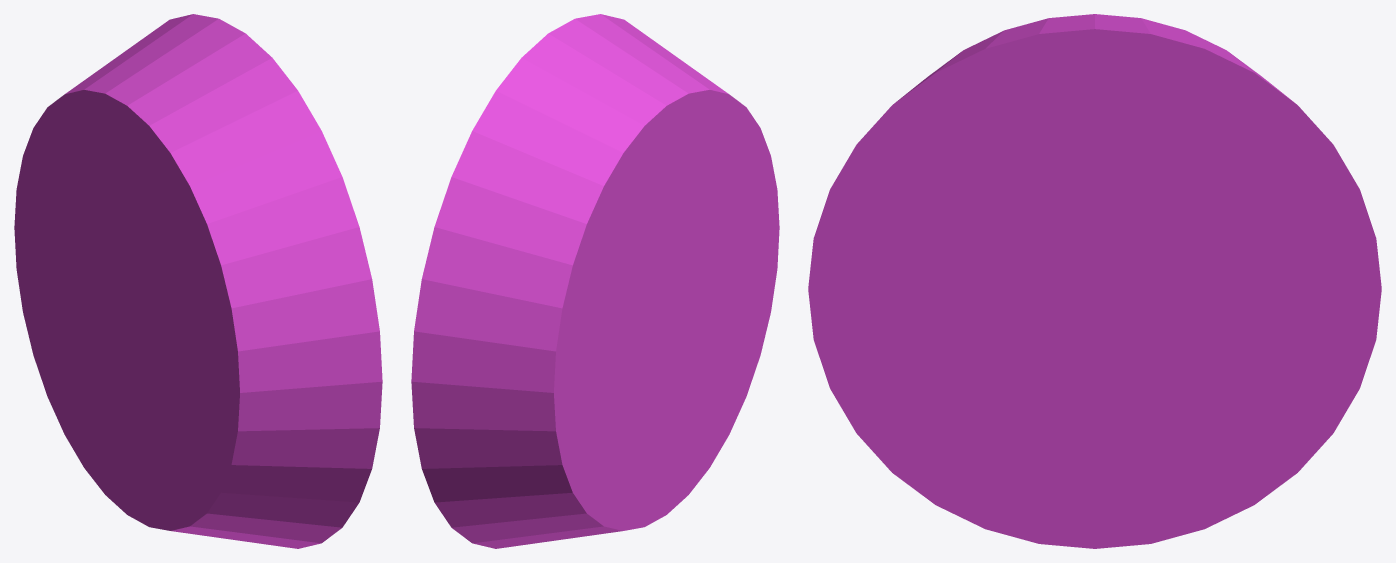
File: pink_button.glb
3 views of the same model, side by side, from view 1: azimuth 30°, elevation 25°; view 2: azimuth 150°, elevation 25°; view 3: azimuth 270°, elevation 25° (orthographic). The views are drawn at different scales.
Visible parts, largest first — view 1: Cylinder.005; view 2: Cylinder.005; view 3: Cylinder.005.
Part boxes in pixels (left/top/right/bottom): Cylinder.005: left=14, top=14, right=382, bottom=548; Cylinder.005: left=411, top=14, right=779, bottom=548; Cylinder.005: left=808, top=14, right=1381, bottom=548.
Size of the model in its own units: 0.125 by 0.5 by 0.5.
